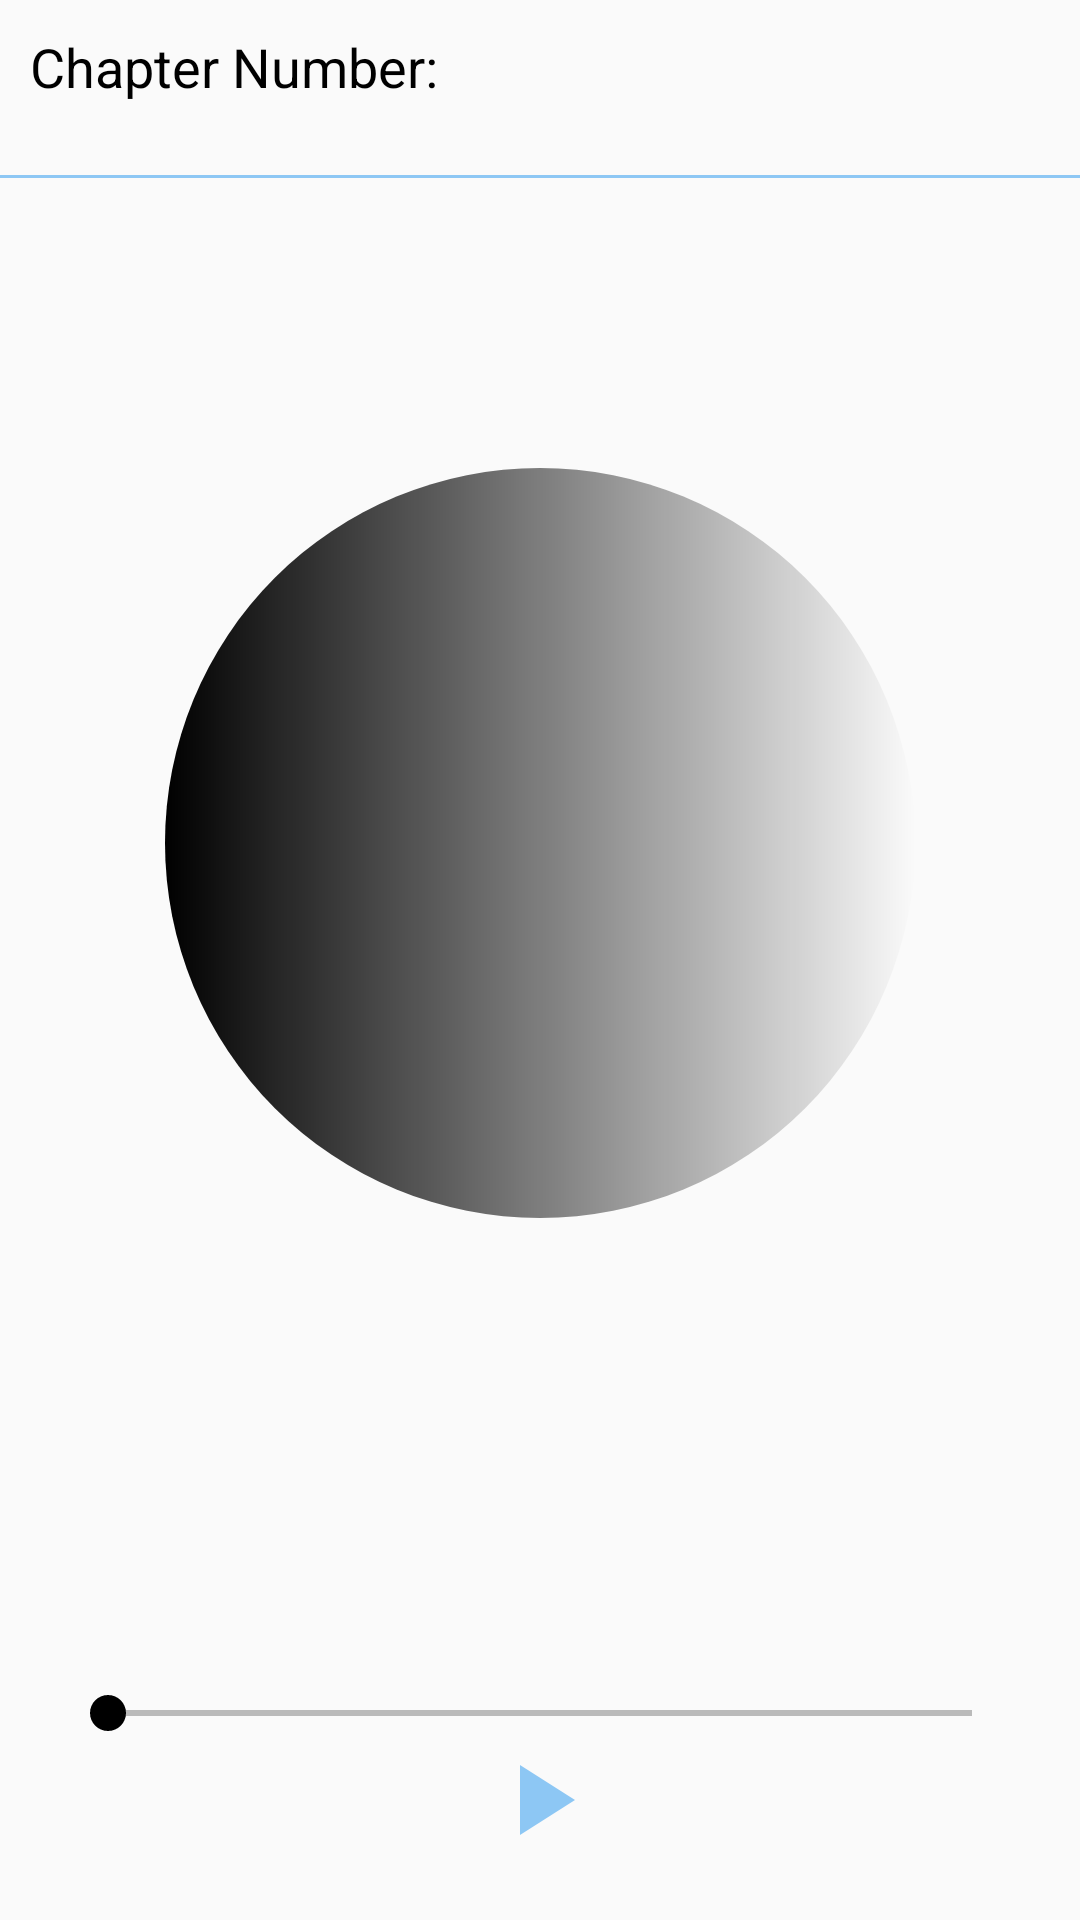

Point at icon controls on the screen. Image size 1080px×1920px, points as point (x, y).
play: point (547, 1800)
